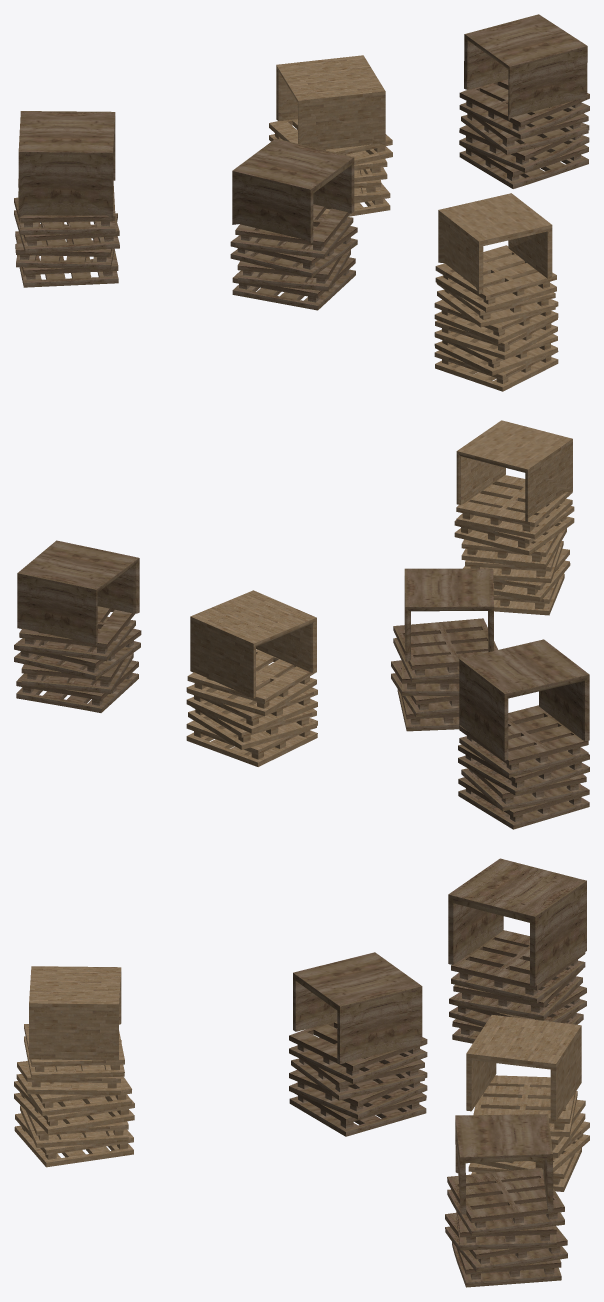
File: Nekierorobkl.fbx
3 views of the same model, one above another, from view 1: azimuth 30°, elevation 25°; view 2: azimuth 150°, elevation 25°; view 3: azimuth 270°, elevation 25° (orthographic). The views are drawn at different scales.
Parts seen in each view (by area): view 1: Cube.021, Cube.038, Cube.031, Cube.008, Cube.043; view 2: Cube.008, Cube.043, Cube.021, Cube.038, Cube.031; view 3: Cube.031, Cube.008, Cube.021, Cube.038, Cube.043.
Boxes of the visible parts, x1,y1,x2,y2 form: Cube.021: (434, 193, 558, 391); Cube.038: (459, 14, 589, 188); Cube.031: (230, 138, 357, 310); Cube.008: (14, 111, 119, 287); Cube.043: (269, 55, 392, 216); Cube.008: (458, 639, 589, 829); Cube.043: (186, 590, 317, 766); Cube.021: (454, 420, 574, 615); Cube.038: (14, 540, 141, 712); Cube.031: (391, 568, 497, 731); Cube.031: (289, 952, 427, 1136); Cube.008: (448, 858, 586, 1043); Cube.021: (14, 966, 134, 1167); Cube.038: (445, 1114, 567, 1287); Cube.043: (466, 1015, 589, 1191).
Size of the model in its own units: 7031 by 1804 by 5932.
2 materials, 2 textured.
